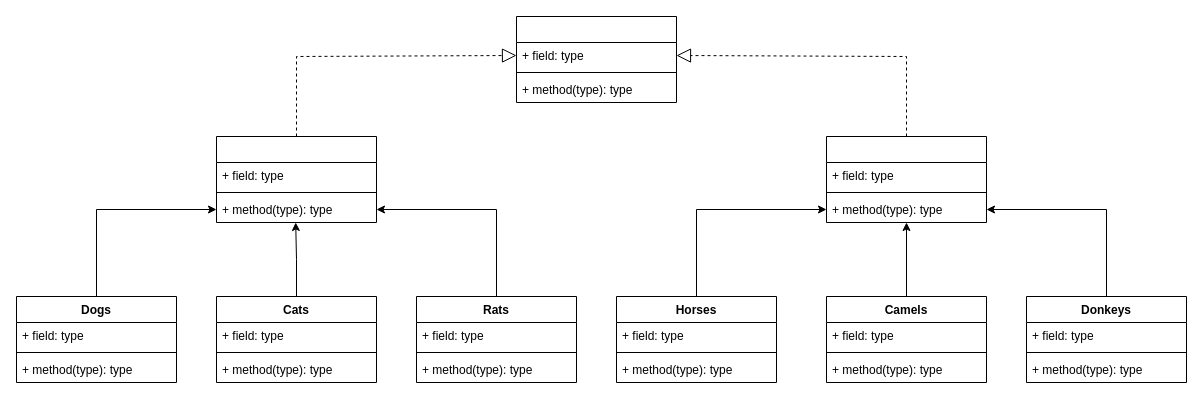
Some shapes in this 1203 by 399 pixel diagram are drawn without their labels. Here are the shapes that lost their labels. From the top down, the box of each, then its label:
(516, 16, 676, 102): Animal
(216, 136, 376, 222): Pets
(826, 136, 986, 222): PackAnimals
